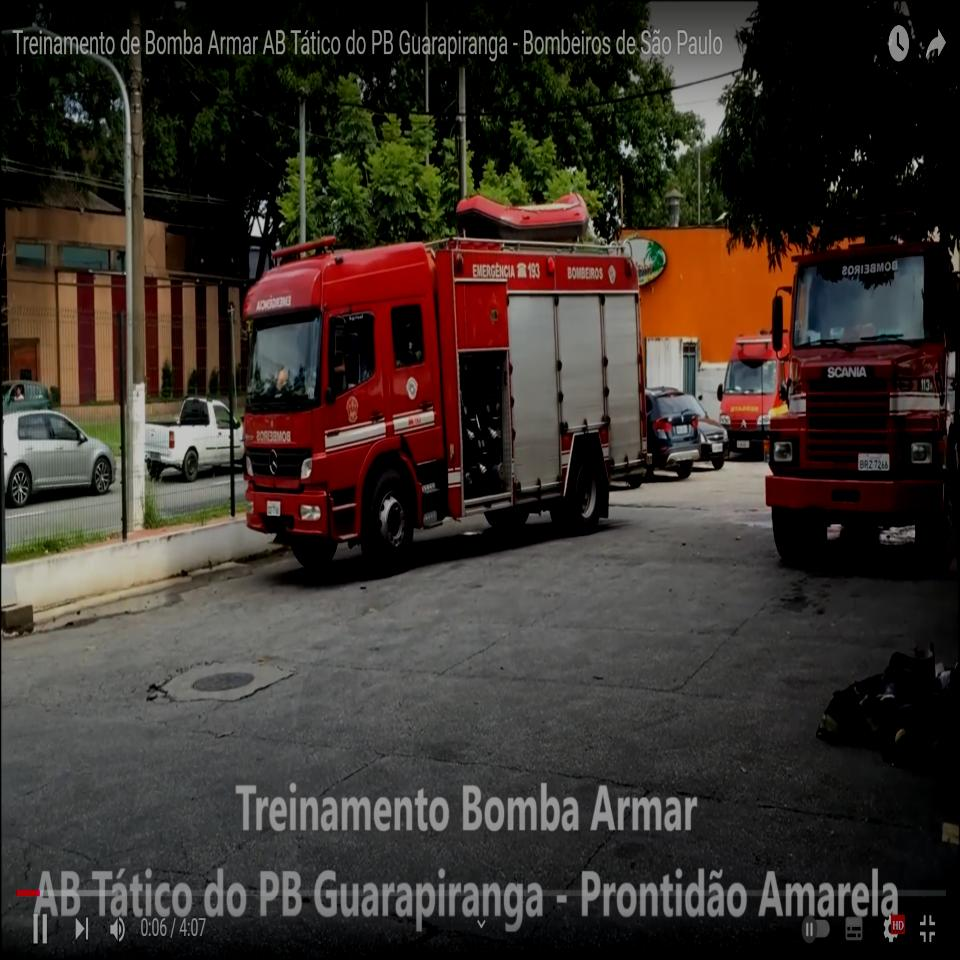bombeiro: (241, 195, 657, 579), (764, 206, 960, 572)
